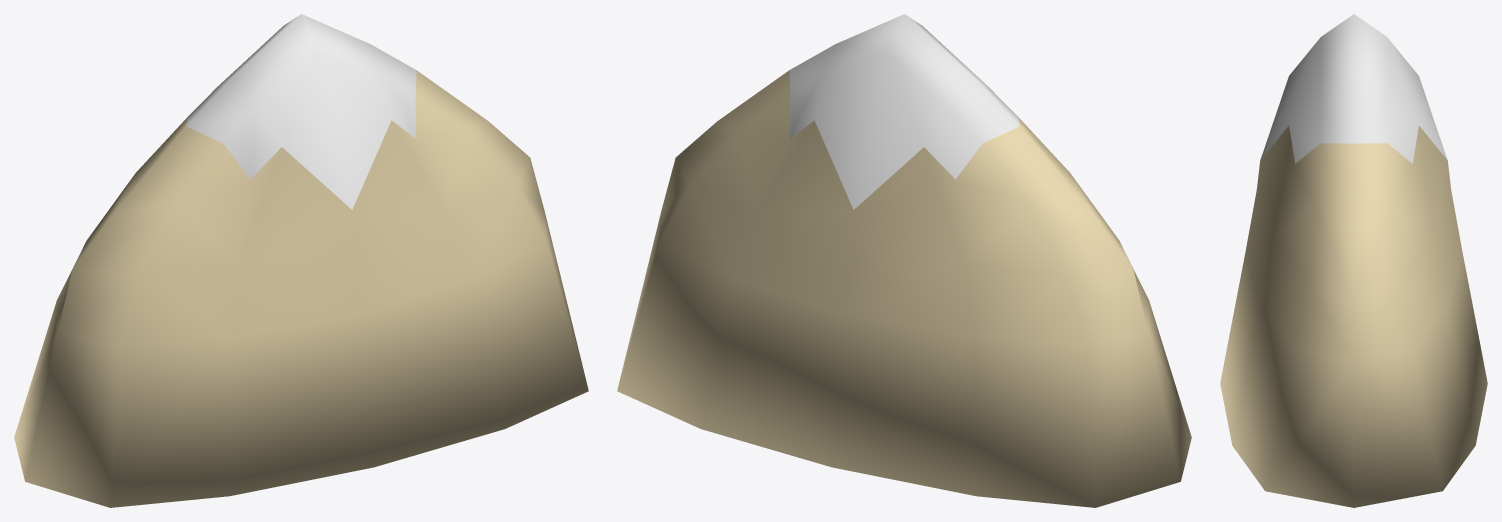
File: mountain.fbx
The picture shows the model from 3 angles, left to right: view 1: azimuth 30°, elevation 25°; view 2: azimuth 150°, elevation 25°; view 3: azimuth 270°, elevation 25°; orthographic projection. The views are drawn at different scales.
Visible parts, largest first — view 1: mountain; view 2: mountain; view 3: mountain.
Boxes of the visible parts, <box> form: mountain: <box>14,14,588,507</box>; mountain: <box>617,14,1191,507</box>; mountain: <box>1220,14,1487,507</box>.
Bounding box in the file's own units: 281 × 195 × 128.
